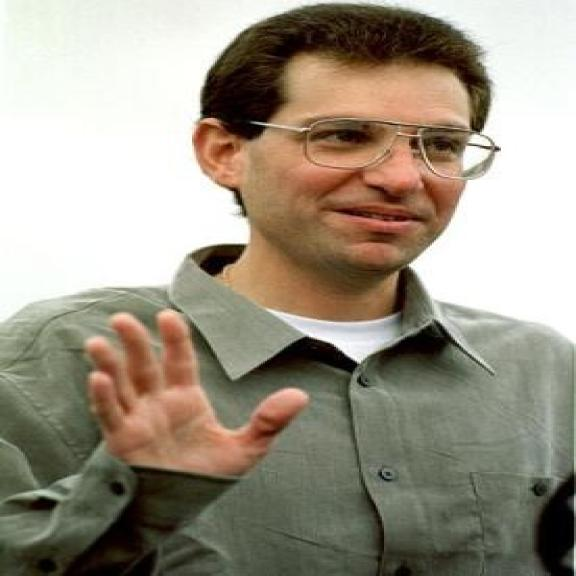face: (187, 51, 480, 278)
